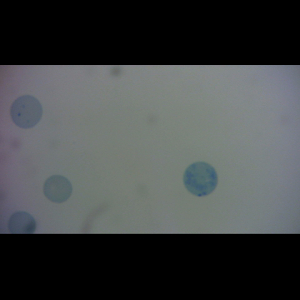aggregate reticulocyte: (182, 160, 220, 198)
erythrocyte: (42, 174, 74, 205)
punctate reticulocyte: (8, 93, 44, 131)
